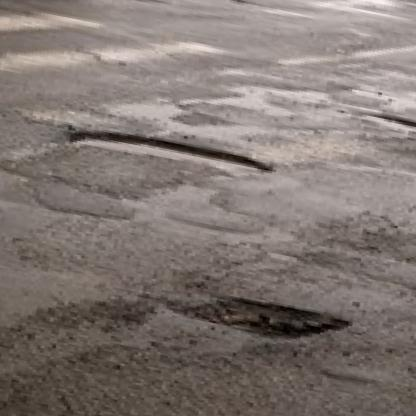pothole: (58, 117, 279, 186), (164, 281, 362, 358), (360, 110, 416, 141), (384, 0, 416, 14)
